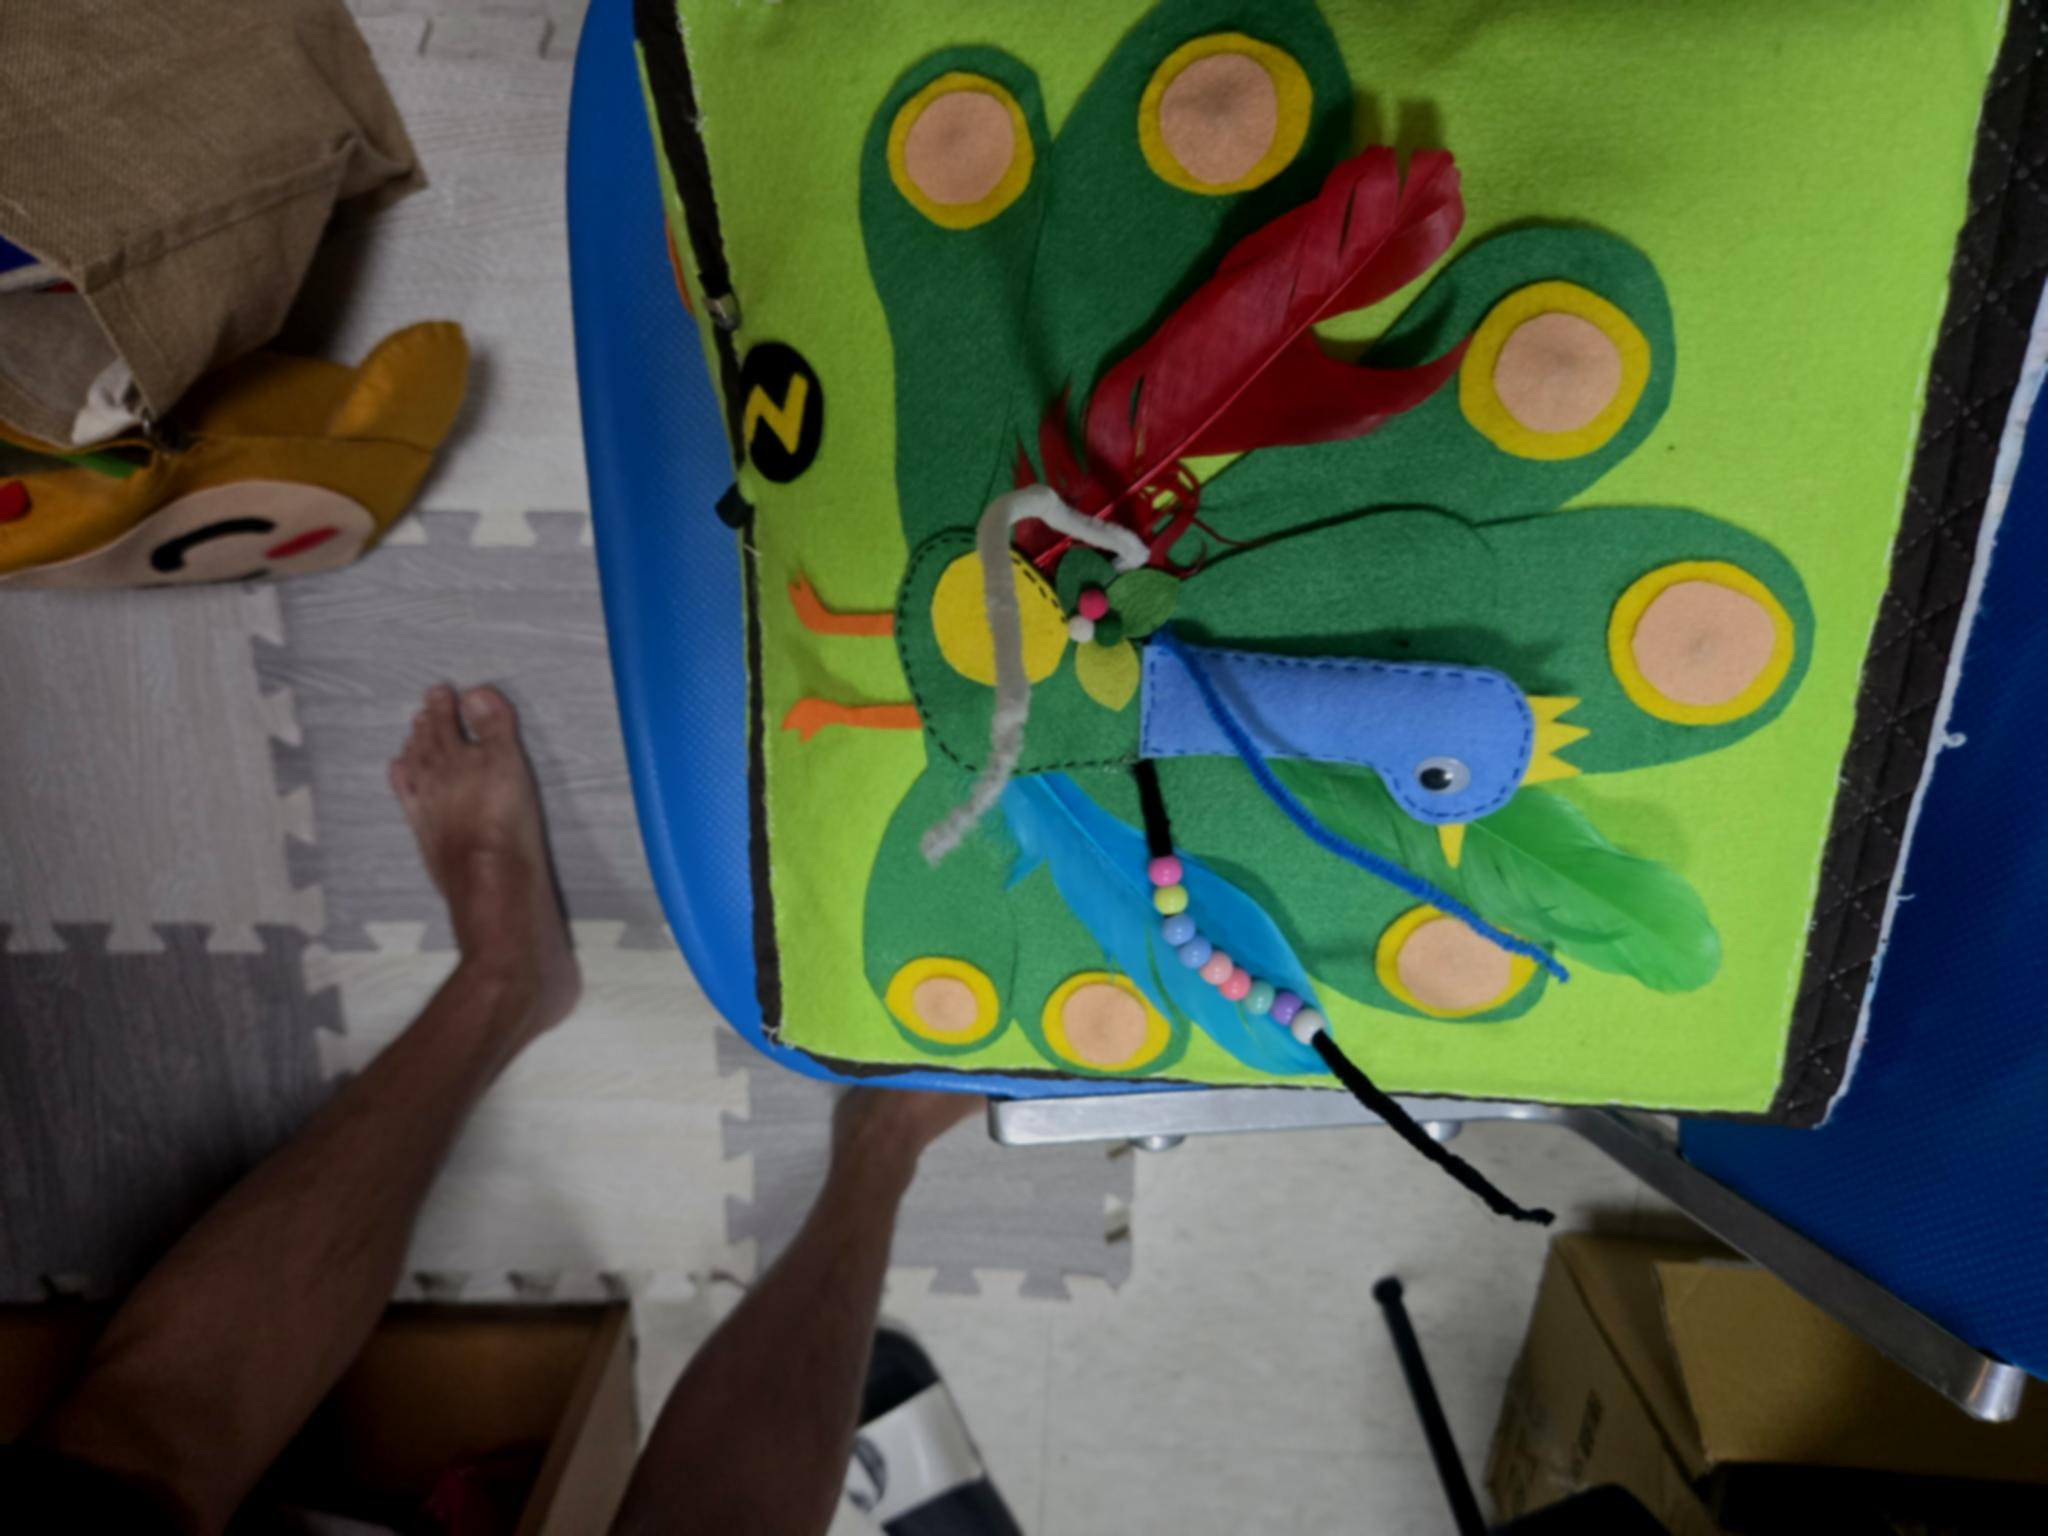bead: (1137, 845, 1198, 886), (1147, 916, 1195, 949), (1177, 937, 1213, 973), (1150, 892, 1192, 916), (1276, 987, 1298, 1026), (1295, 1013, 1322, 1044), (1250, 978, 1271, 1016), (1209, 945, 1229, 987), (1229, 968, 1253, 1000)
